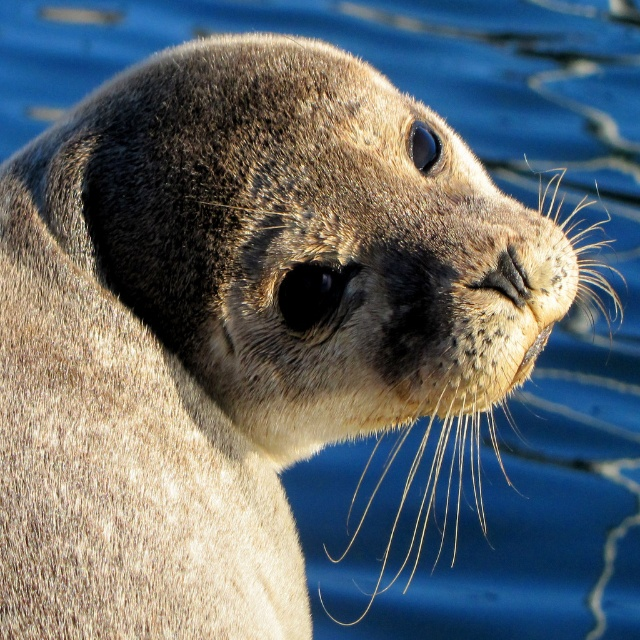Harbor seal: (0, 32, 632, 640)
